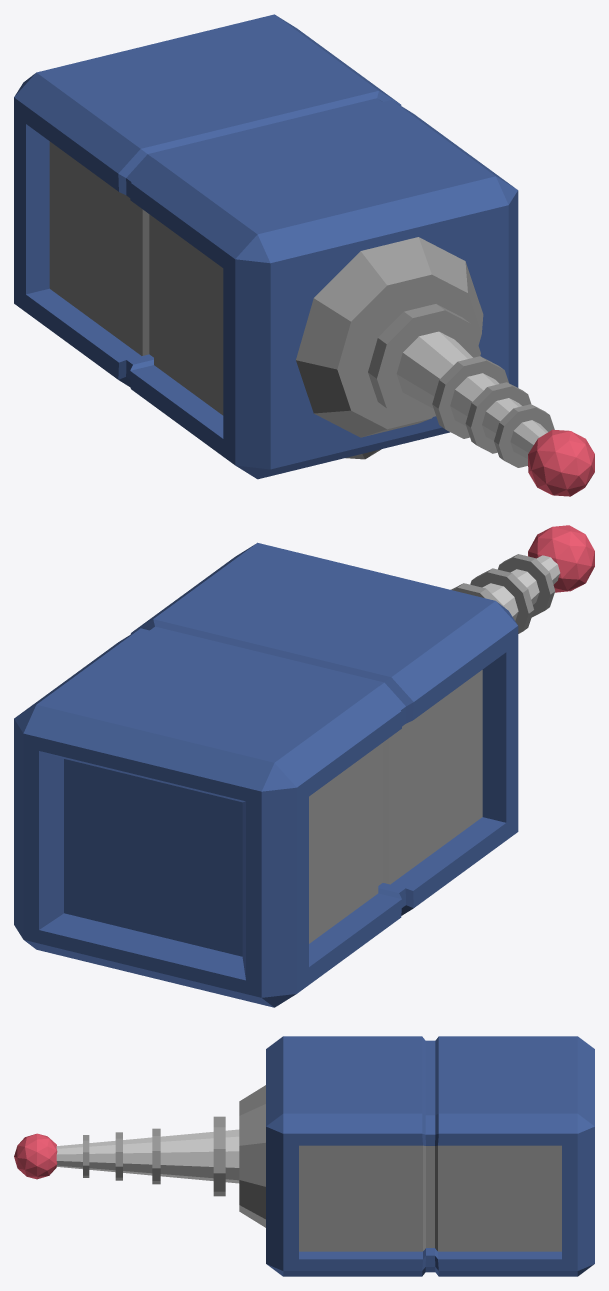
Rendered from Laser Agarrable.fbx.
The picture shows the model from 3 angles, top to bottom: view 1: azimuth 30°, elevation 25°; view 2: azimuth 150°, elevation 25°; view 3: azimuth 270°, elevation 25°; orthographic projection. The views are drawn at different scales.
Parts seen in each view (by area): view 1: Laser Agarrable; view 2: Laser Agarrable; view 3: Laser Agarrable.
Boxes of the visible parts, <box> form: Laser Agarrable: <box>14,14,594,496</box>; Laser Agarrable: <box>14,525,594,1007</box>; Laser Agarrable: <box>14,1036,594,1276</box>.
Size of the model in its own units: 154 by 139 by 411.
